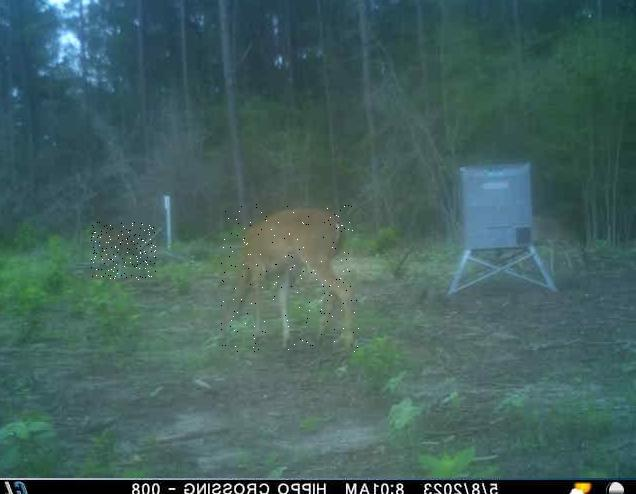Deer: (220, 204, 358, 352), (90, 222, 155, 280)
